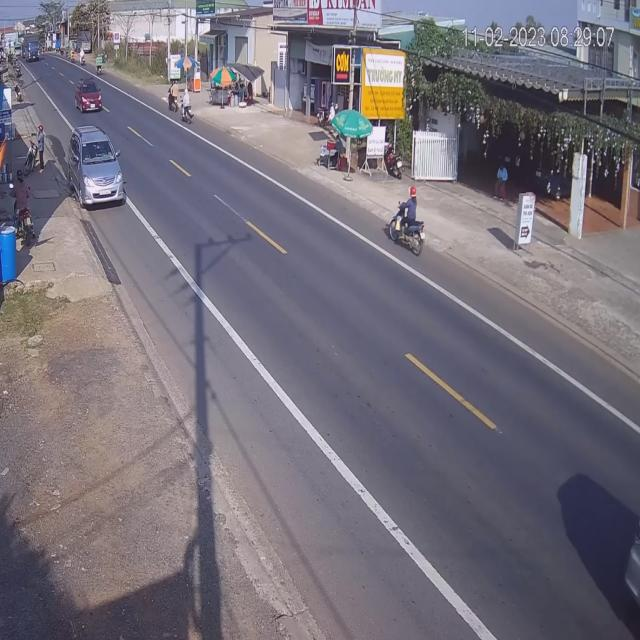car: (68, 126, 126, 210), (76, 78, 105, 115)
motorbike: (387, 190, 427, 258), (181, 94, 195, 128), (168, 81, 180, 113)
